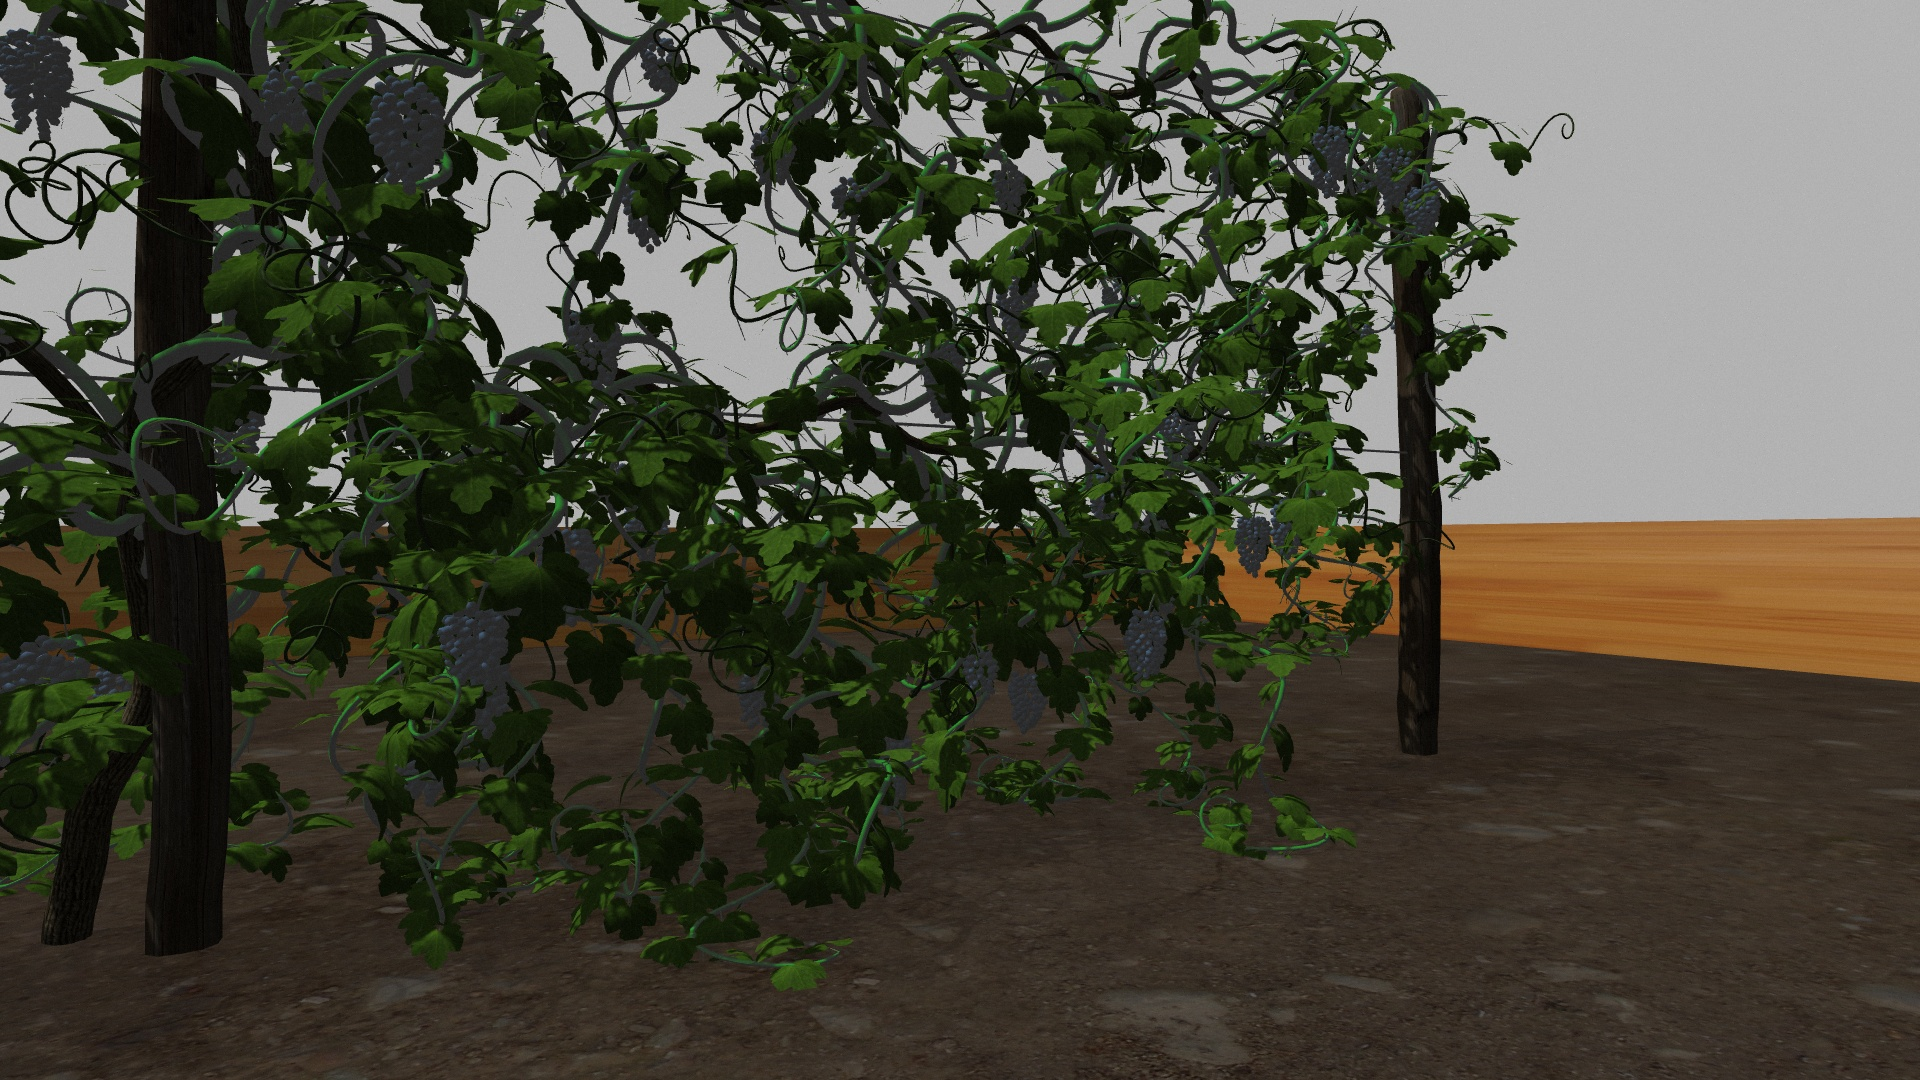grape: (365, 76, 448, 195), (5, 28, 74, 142), (435, 608, 510, 680), (5, 637, 92, 688), (256, 65, 319, 135), (567, 313, 624, 382), (1125, 608, 1168, 690), (1308, 124, 1352, 199), (997, 276, 1040, 347), (1009, 673, 1052, 735), (1375, 146, 1415, 207), (735, 676, 778, 729), (1234, 516, 1271, 578), (642, 44, 684, 94), (1403, 185, 1441, 239), (1160, 406, 1197, 462), (992, 160, 1027, 214), (963, 647, 1000, 698), (1271, 512, 1304, 559), (829, 175, 866, 208)
